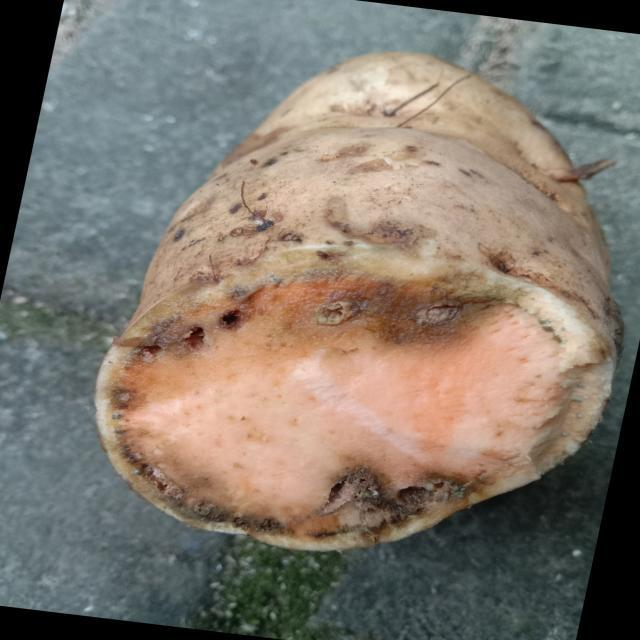Sick Sweet Potato_Tuber Rot: (97, 239, 622, 550)
